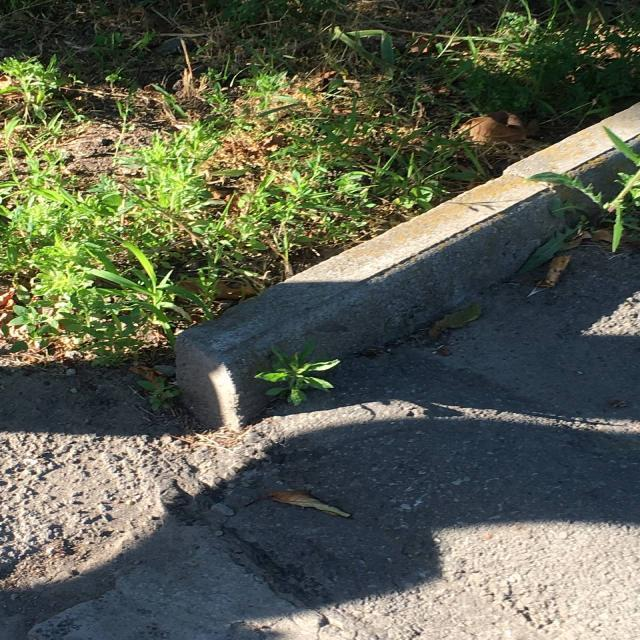bump: (159, 225, 466, 437)
